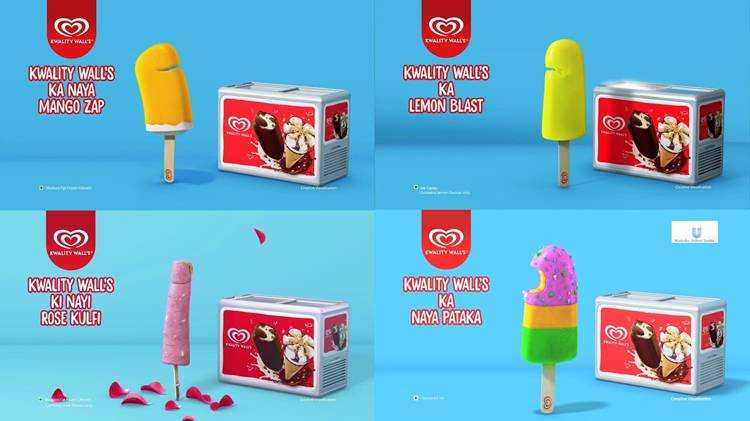Kwality_Walls: (41, 225, 110, 262), (416, 218, 472, 263), (44, 13, 93, 52), (421, 11, 468, 45), (594, 108, 629, 139), (222, 111, 255, 142), (221, 323, 254, 348), (603, 321, 628, 349)
